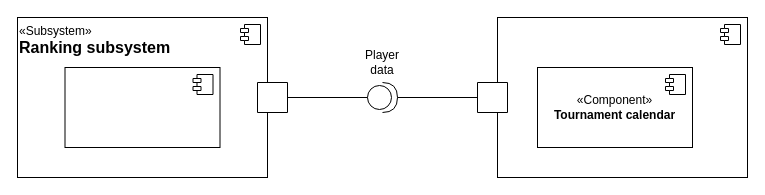
Some shapes in this 765 by 195 pixel diagram are drawn without their labels. The shapes that lost their labels are listed below. From the top down, each one's box as (x1, y1, x2, y2) in pixels, then its label:
(64, 66, 220, 148): «Component» Ranking
(496, 16, 748, 178): «Subsystem» Tournament subsystem
